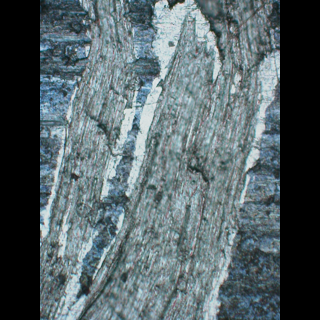d: (41, 0, 280, 319)
